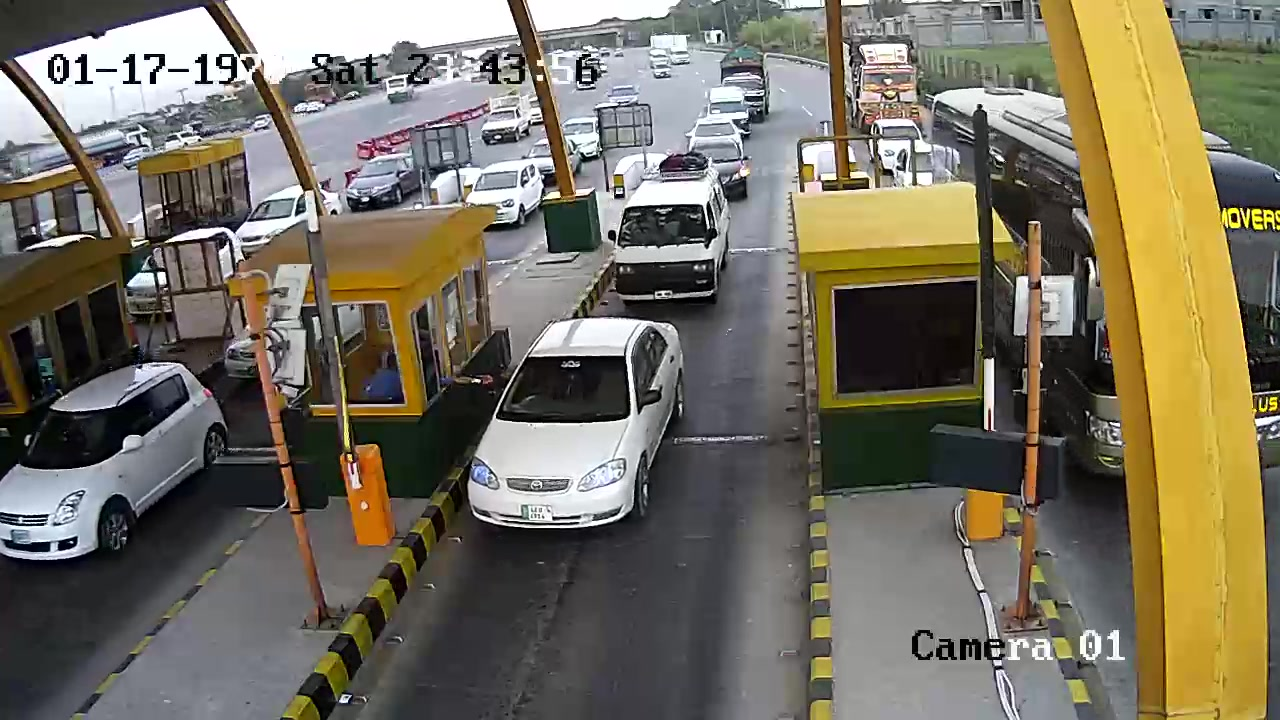F1: (455, 316, 703, 546)
